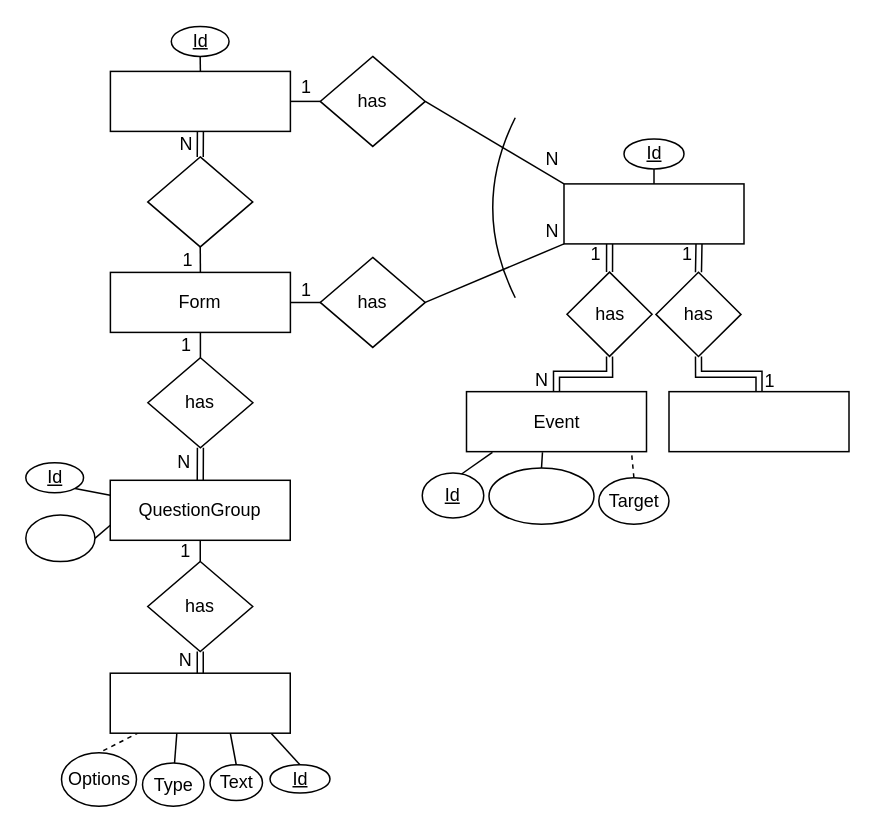
Some shapes in this 876 by 833 pixel diagram are drawn without their labels. The centre of each missing label's shape, as x and y in pixels:
"EventType" belongs at point 541,495.
"Inconsistency" belongs at point 199,100.
"Name" belongs at point 59,538.
"Question" belongs at point 199,702.
"refers" belongs at point 199,201.
"Rule" belongs at point 653,213.
"TopLevelCondition" belongs at point 758,421.
